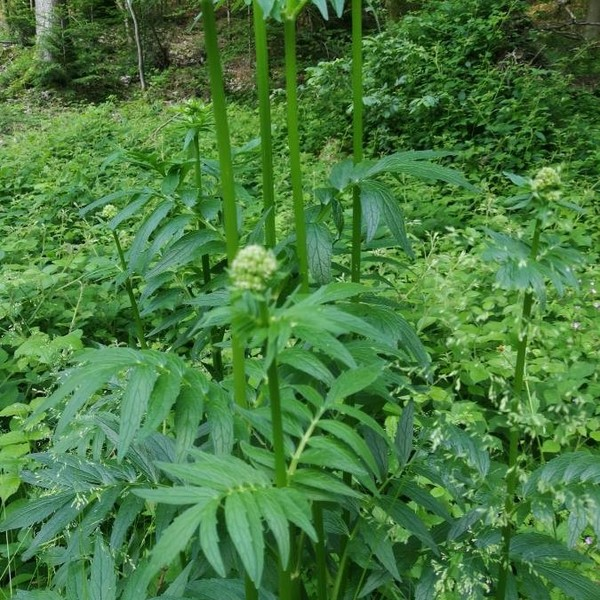obstacle: (113, 112, 393, 547)
